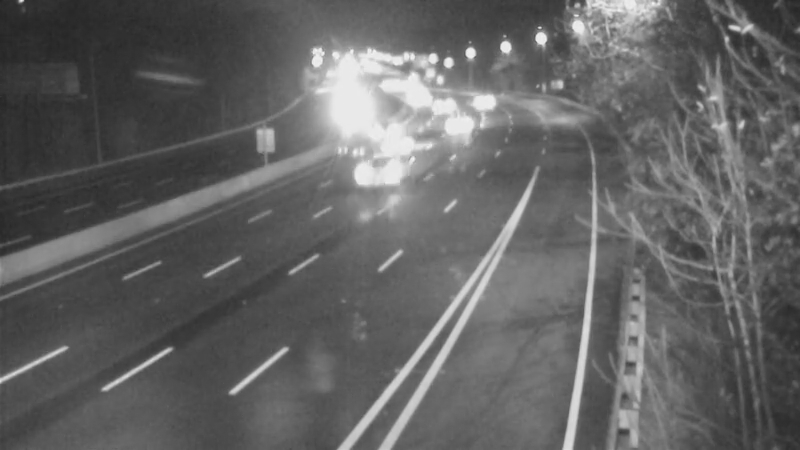vehicle: (341, 135, 421, 215), (459, 73, 509, 123), (406, 80, 456, 130), (438, 93, 488, 143), (361, 97, 411, 147), (379, 118, 429, 168)
